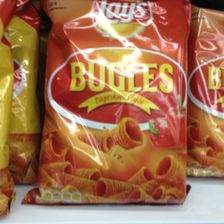chips: (40, 1, 189, 205)
